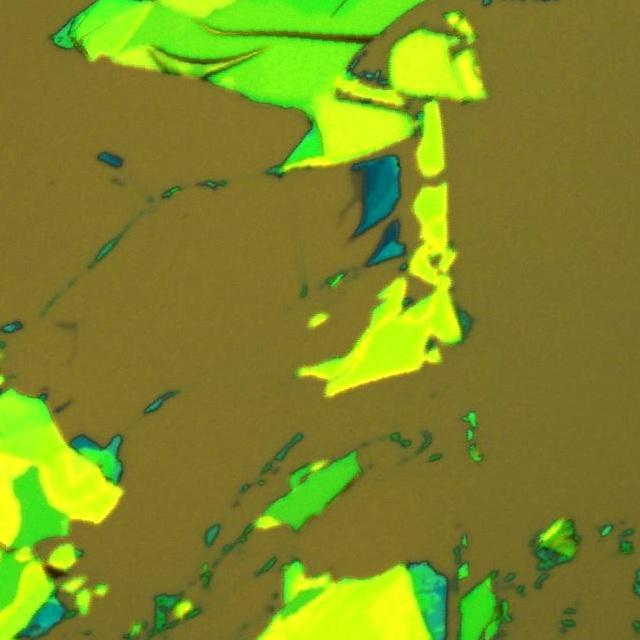monolayer-eWW4: (351, 170, 364, 202)
